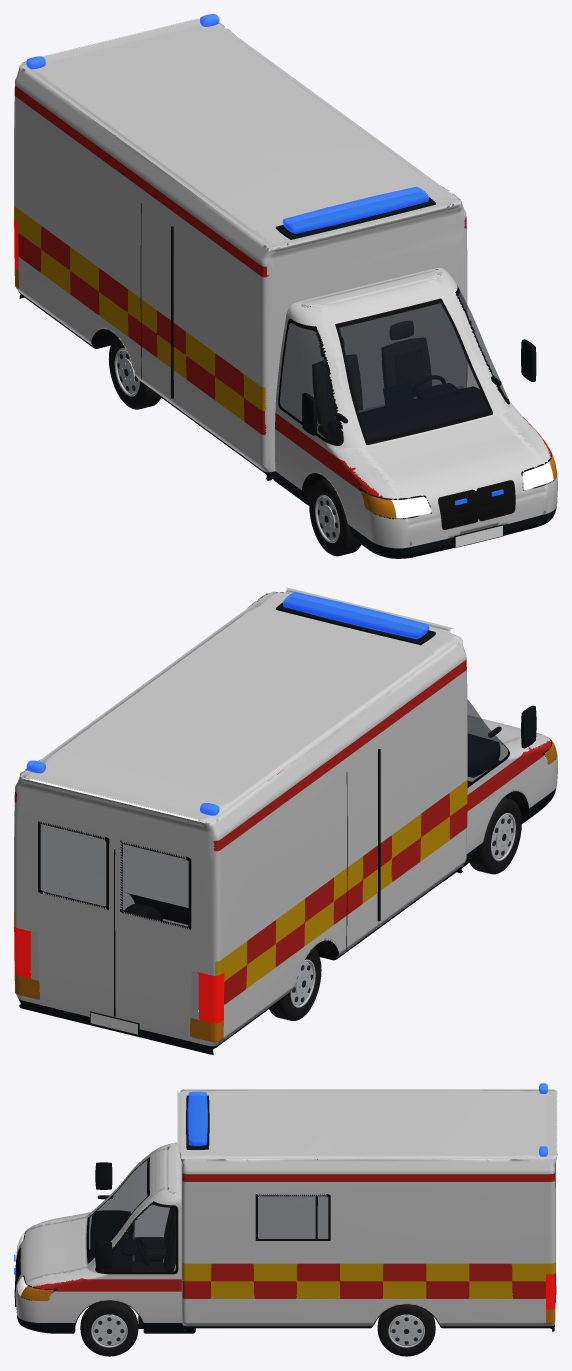
File: car_ambulance.glb
3 views of the same model, one above another, from view 1: azimuth 30°, elevation 25°; view 2: azimuth 150°, elevation 25°; view 3: azimuth 270°, elevation 25° (orthographic). The views are drawn at different scales.
Parts seen in each view (by area): view 1: body, glass, siren, wheel_FR_mesh, wheel_RR_mesh, headlight; view 2: body, glass, siren, wheel_FR_mesh, taillight, wheel_RR_mesh, indicator_R; view 3: body, glass, wheel_FL_mesh, wheel_RL_mesh, siren, indicator_L, taillight.
Part boxes in pixels (x1,y1,x2,y2): body: (14,18,557,558); glass: (280,290,507,441); siren: (26,14,503,505); wheel_FR_mesh: (309,479,361,556); wheel_RR_mesh: (108,336,160,409); headlight: (391,462,553,518); body: (14,587,557,1054); glass: (40,699,507,926); siren: (26,592,428,815); wheel_FR_mesh: (470,797,521,874); taillight: (14,926,224,1023); wheel_RR_mesh: (269,947,321,1020); indicator_R: (190,740,557,1042); body: (14,1089,557,1333); glass: (89,1160,555,1271); wheel_FL_mesh: (80,1300,138,1356); wheel_RL_mesh: (377,1304,435,1356); siren: (14,1083,547,1274); indicator_L: (21,1286,555,1323); taillight: (546,1273,555,1309).
Size of the model in its own units: 2.47 by 2.98 by 6.96.
